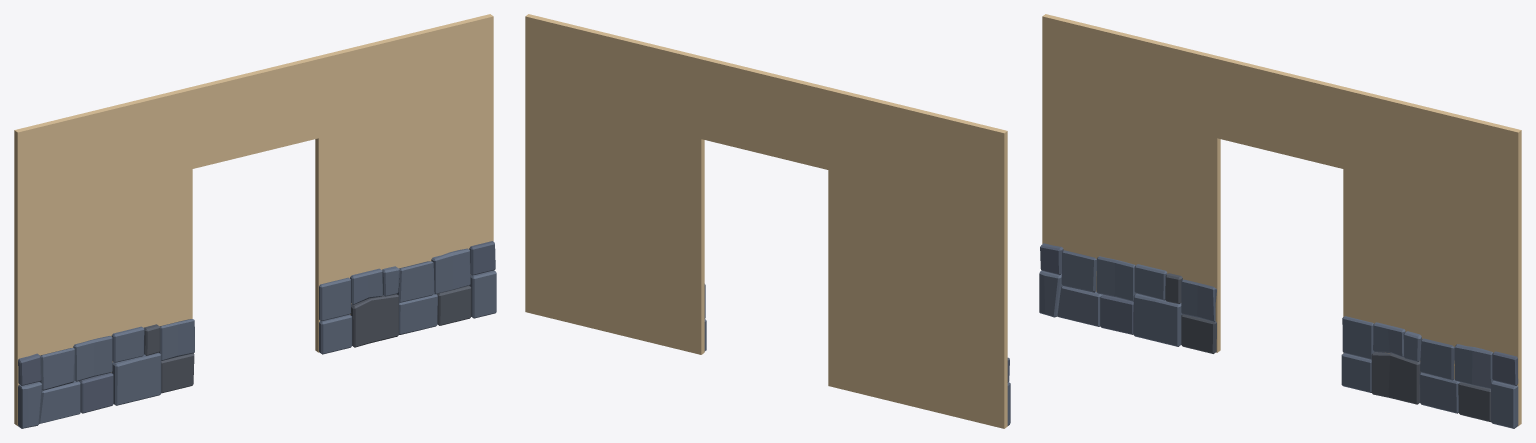
File: Wall_02_Door.fbx
3 renders of one model, left to right at view 1: azimuth 30°, elevation 25°; view 2: azimuth 150°, elevation 25°; view 3: azimuth 330°, elevation 25°, orthographic.
Visible parts, largest first — view 1: Wall_02_Door; view 2: Wall_02_Door; view 3: Wall_02_Door.
Boxes of the visible parts, x1=… form: Wall_02_Door: x1=14, y1=14, x2=496, y2=428; Wall_02_Door: x1=525, y1=14, x2=1010, y2=428; Wall_02_Door: x1=1039, y1=14, x2=1521, y2=428.
Size of the model in its own units: 473 by 279 by 13.64.
